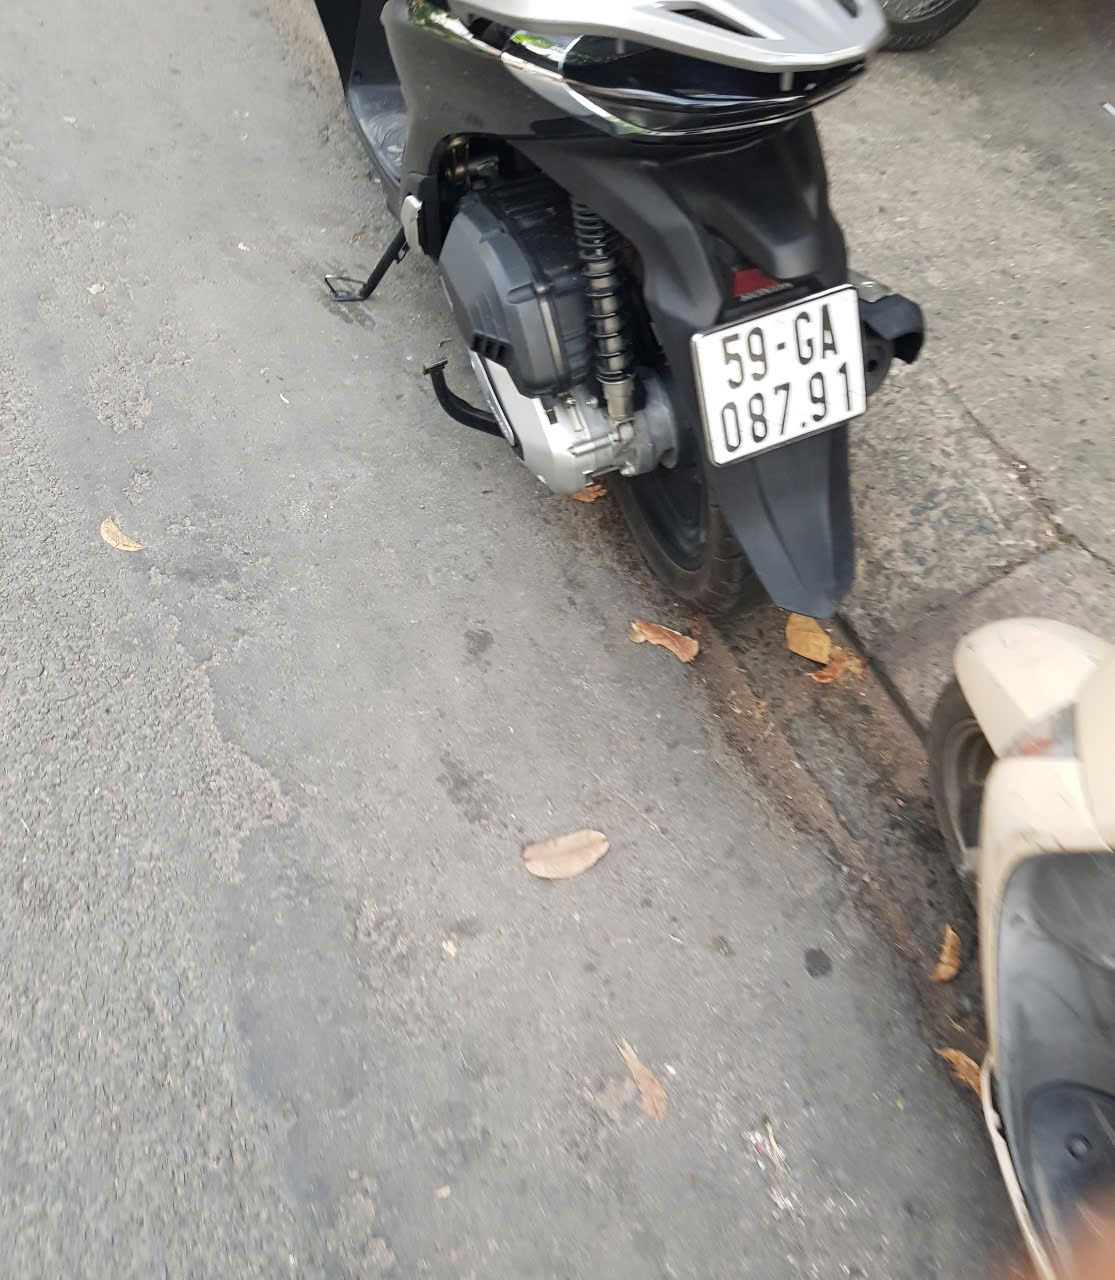bien_so: (695, 288, 868, 465)
